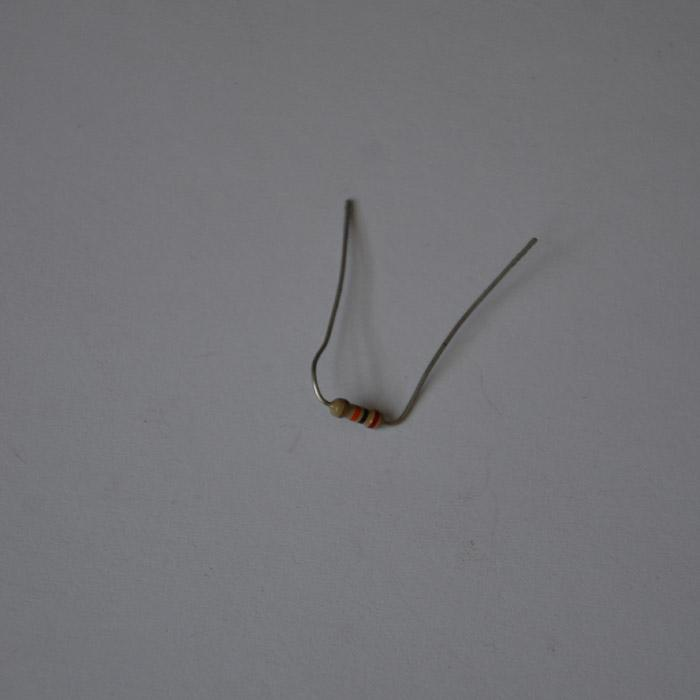resistor: (327, 397, 383, 430)
